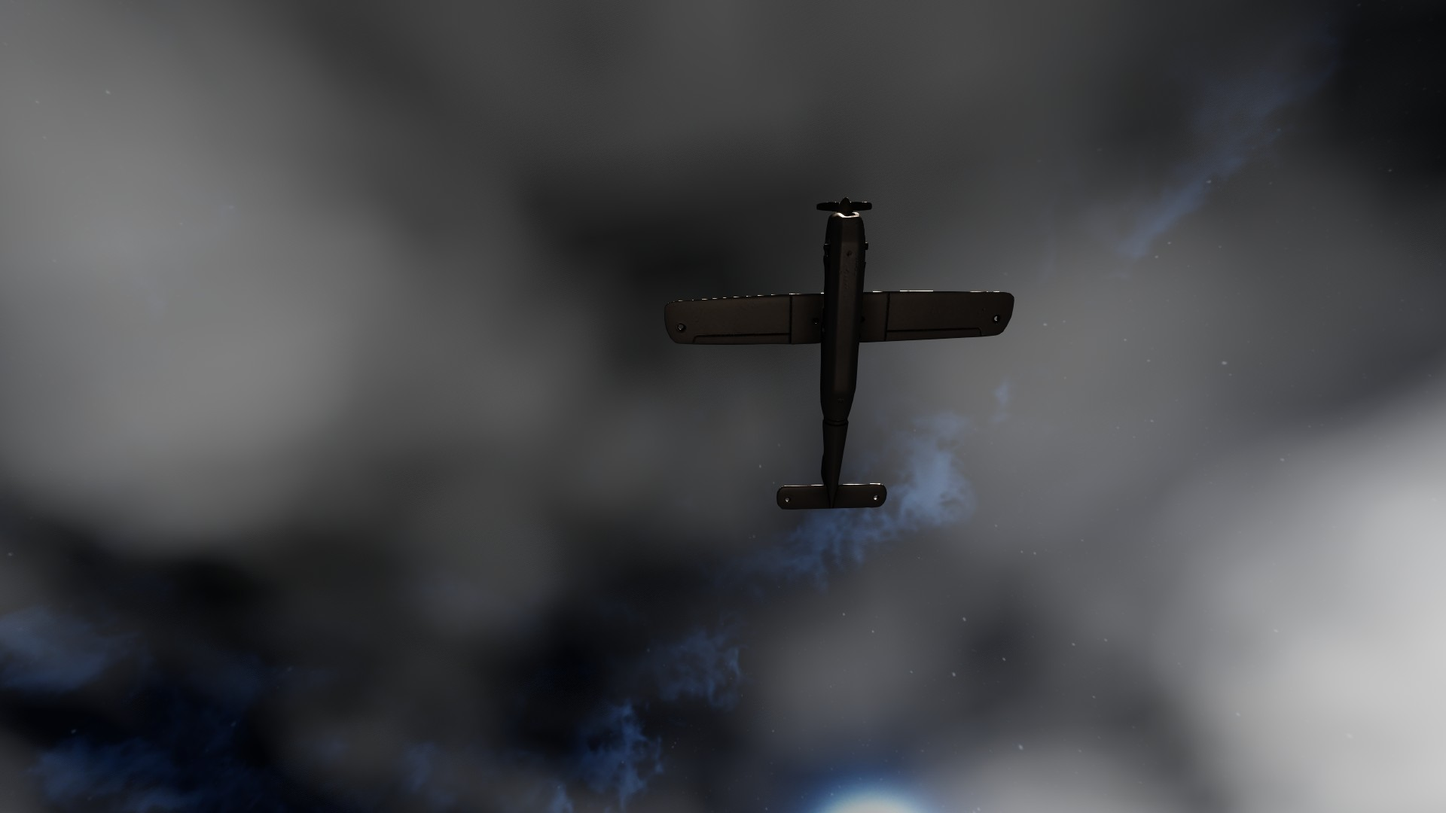drone_other: (664, 197, 1014, 510)
